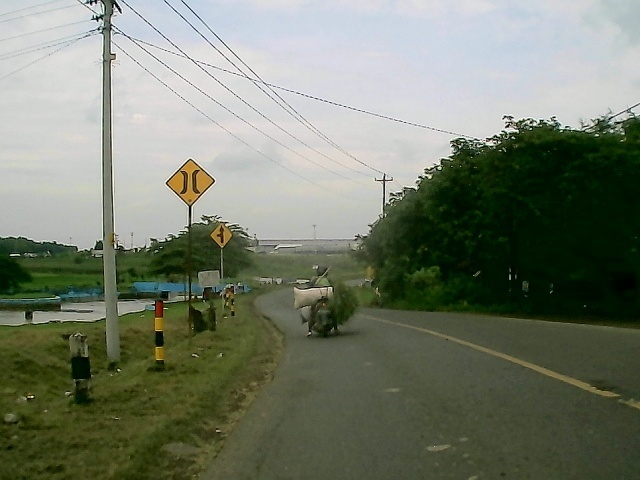Jembatan: (163, 156, 215, 208)
Simpang kiri dengan prioritas: (208, 221, 236, 250)
